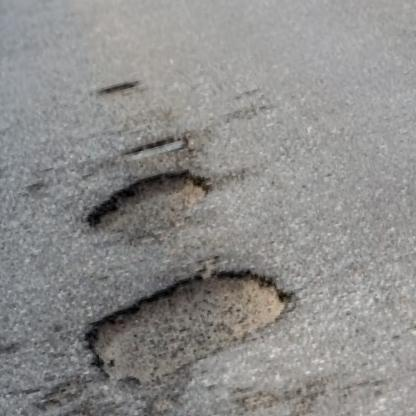pothole: (75, 249, 302, 398), (78, 160, 218, 249), (118, 129, 189, 165), (100, 78, 139, 97)
